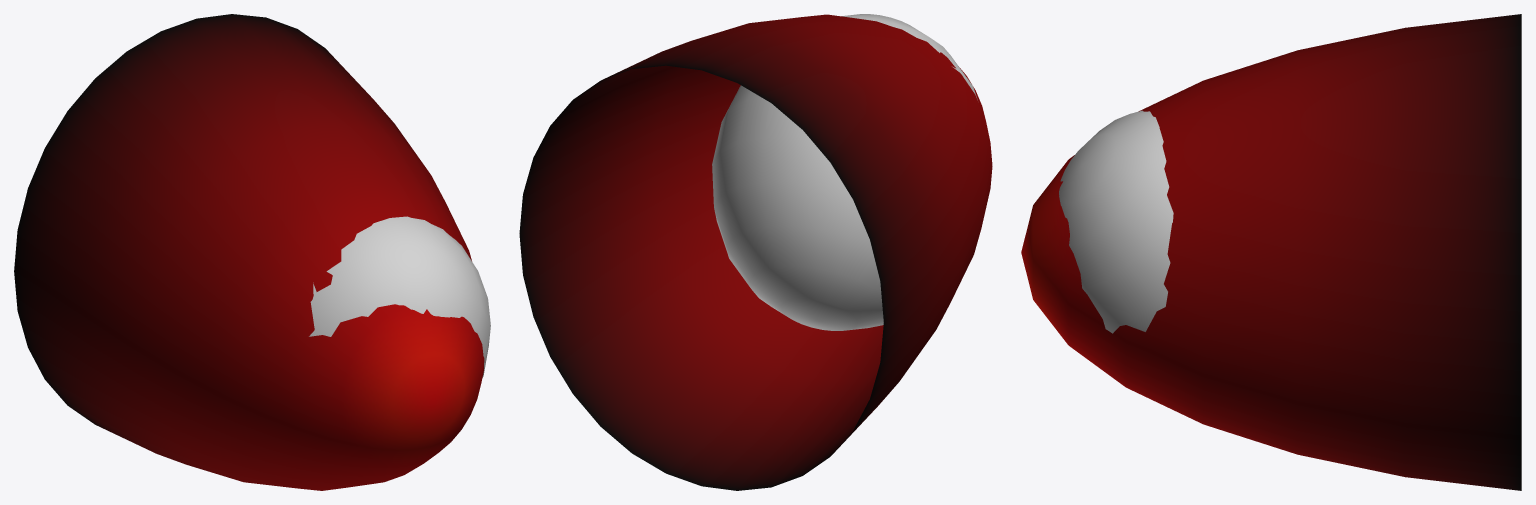
The model's file is pref_fx_Scorbunny_spell01A_bullet_lv1.fbx.
3 views of the same model, side by side, from view 1: azimuth 30°, elevation 25°; view 2: azimuth 150°, elevation 25°; view 3: azimuth 270°, elevation 25° (orthographic). The views are drawn at different scales.
Parts seen in each view (by area): view 1: ballglow, ballwave; view 2: ballglow, ballwave; view 3: ballglow, ballwave.
Boxes of the visible parts, x1,y1,x2,y2 form: ballglow: (14, 14, 484, 490); ballwave: (309, 216, 490, 377); ballglow: (519, 14, 992, 490); ballwave: (712, 14, 977, 330); ballglow: (1021, 14, 1521, 490); ballwave: (1059, 110, 1173, 333).
Bounding box in the file's own units: 1.82 × 1.99 × 2.06.
